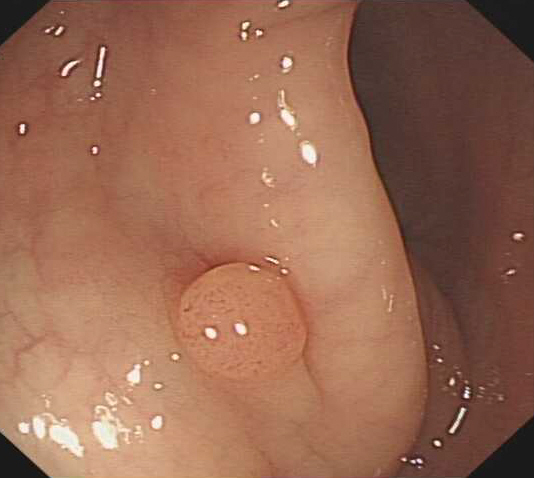adenoma: (173, 260, 306, 383)
